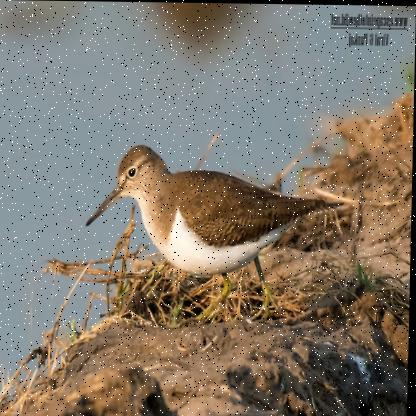Burung: (81, 141, 348, 319)
